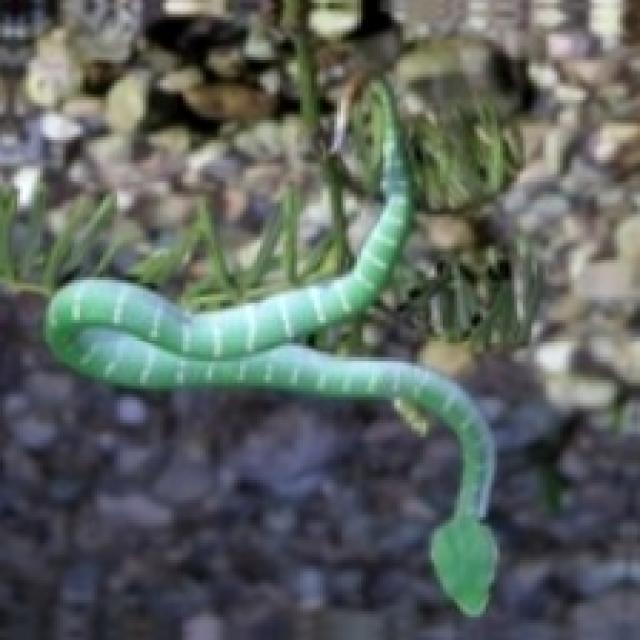north ph temple pitviper: (46, 83, 494, 614)
